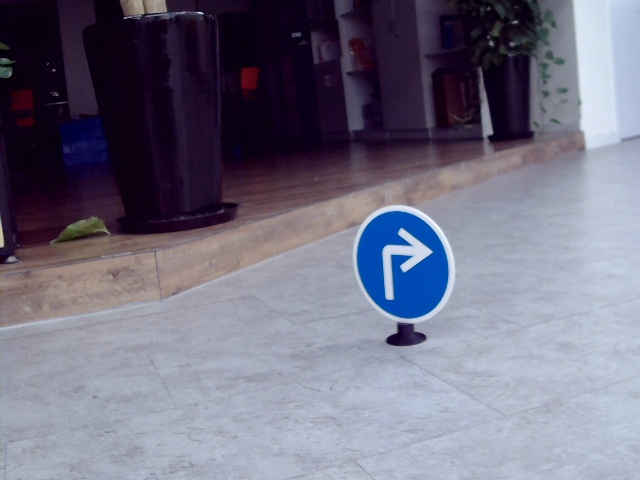turn_right: (377, 225, 431, 302)
